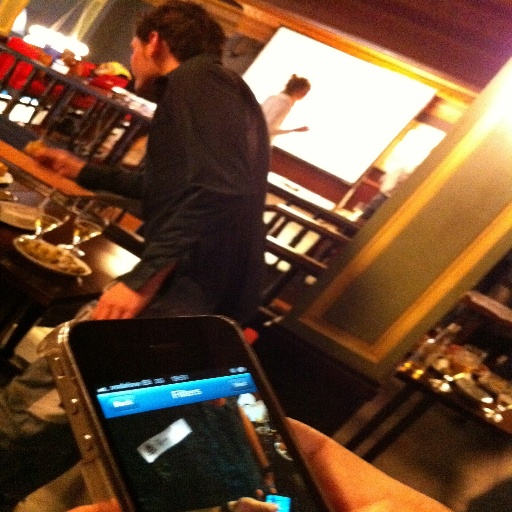hand: (89, 282, 161, 320), (31, 148, 79, 174), (296, 125, 309, 130)
